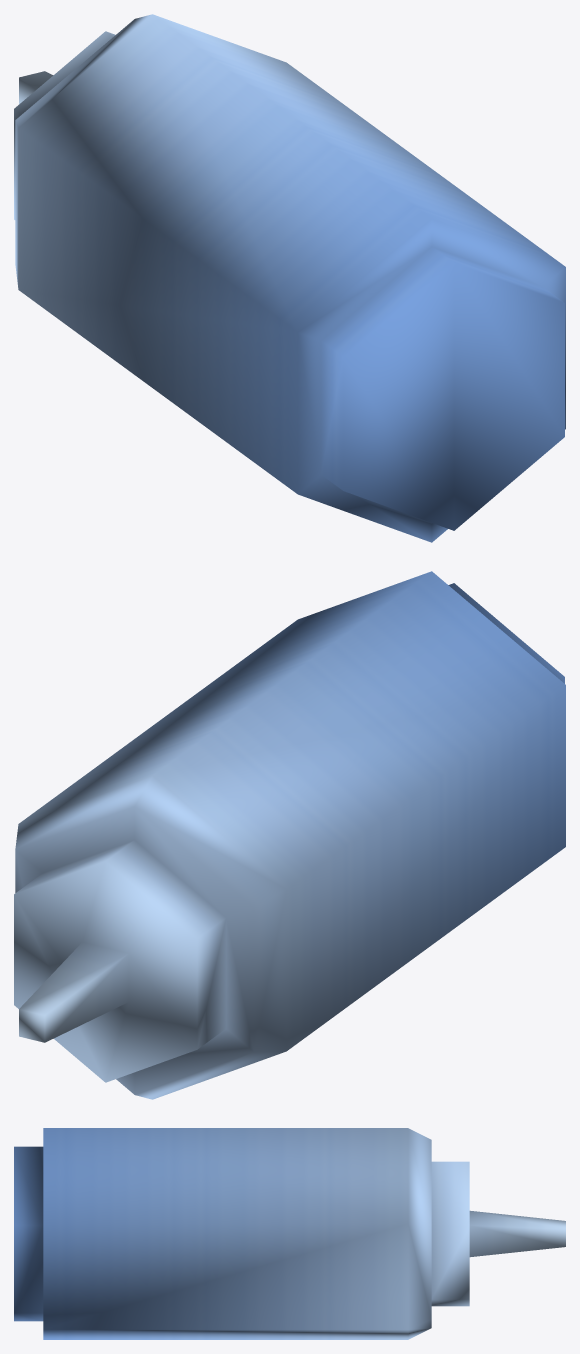
Rendered from bottle-musterd.obj.
3 renders of one model, top to bottom at view 1: azimuth 30°, elevation 25°; view 2: azimuth 150°, elevation 25°; view 3: azimuth 270°, elevation 25°, orthographic. The views are drawn at different scales.
Parts seen in each view (by area): view 1: bottle-musterd.003; view 2: bottle-musterd.003; view 3: bottle-musterd.003.
Part boxes in pixels (box(x1,y1,x2,y2)): bottle-musterd.003: box(14, 14, 565, 542); bottle-musterd.003: box(14, 571, 565, 1099); bottle-musterd.003: box(14, 1128, 565, 1339).
Size of the model in its own units: 0.1441 by 0.1664 by 0.3931.
